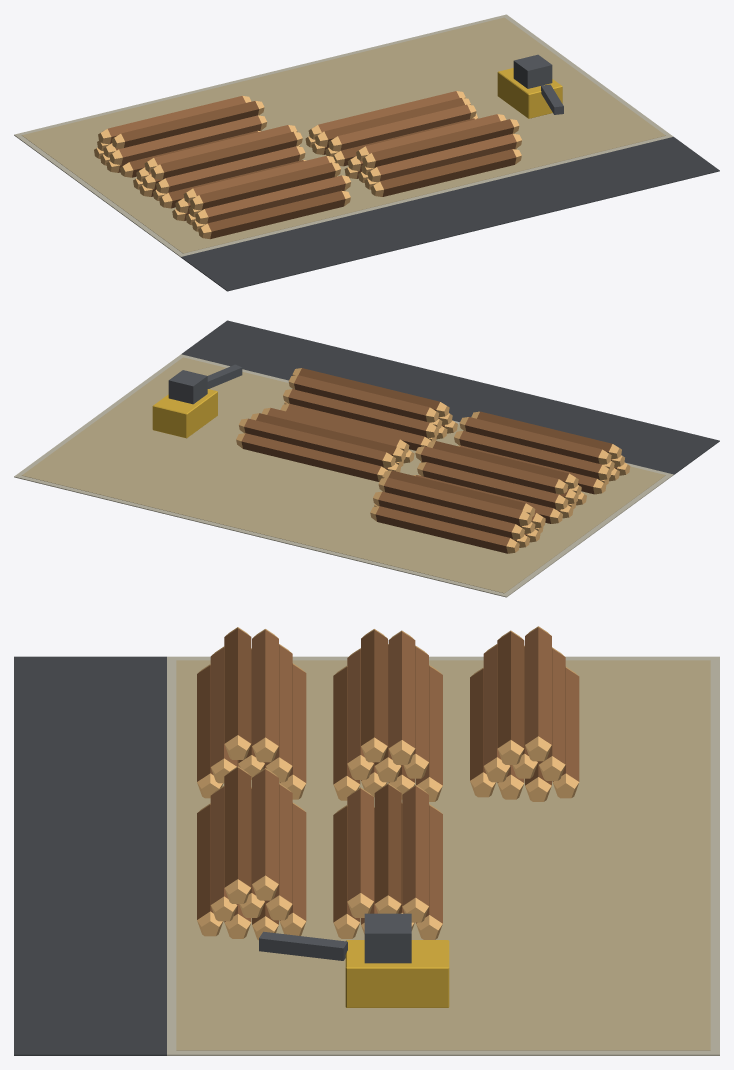
File: site_logyard.glb
3 views of the same model, one above another, from view 1: azimuth 30°, elevation 25°; view 2: azimuth 150°, elevation 25°; view 3: azimuth 270°, elevation 25° (orthographic). The views are drawn at different scales.
Visible parts, largest first — view 1: site_logyard; view 2: site_logyard; view 3: site_logyard.
Boxes of the visible parts, x1,y1,x2,y2 form: site_logyard: (14, 14, 719, 291); site_logyard: (14, 320, 719, 597); site_logyard: (14, 626, 719, 1055).
Size of the model in its own units: 40 by 3.4 by 30.
